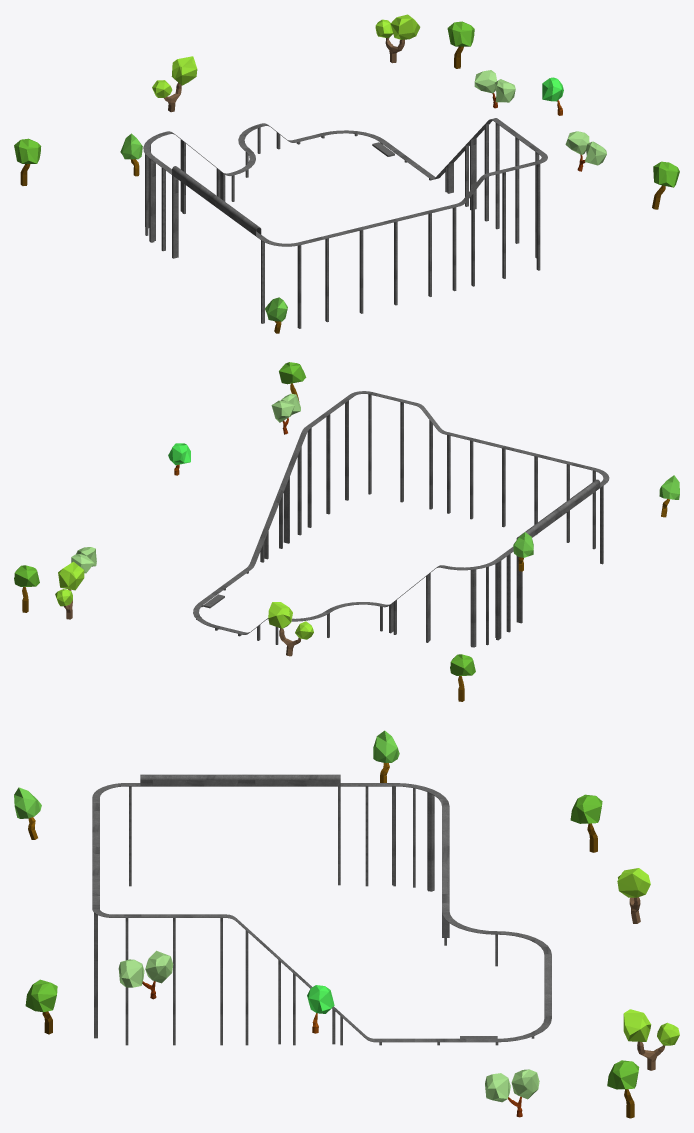
File: Environment.gltf
3 views of the same model, one above another, from view 1: azimuth 30°, elevation 25°; view 2: azimuth 150°, elevation 25°; view 3: azimuth 270°, elevation 25° (orthographic). The views are drawn at different scales.
Parts seen in each view (by area): view 1: terrain001, GeoSphere002 (×2), GeoSphere010, GeoSphere008, GeoSphere005; view 2: terrain001, GeoSphere002, GeoSphere008; view 3: terrain001, GeoSphere002 (×3), GeoSphere001 (×3), GeoSphere005, GeoSphere008, GeoSphere010, GeoSphere006, GeoSphere004, GeoSphere007.
Part boxes in pixels (bbox=[...]): terrain001: bbox=[143, 118, 547, 328]; GeoSphere002 (×2): bbox=[14, 14, 420, 163]; GeoSphere010: bbox=[447, 21, 474, 46]; GeoSphere008: bbox=[171, 56, 197, 85]; GeoSphere005: bbox=[653, 161, 679, 187]; terrain001: bbox=[193, 391, 609, 647]; GeoSphere002: bbox=[58, 561, 84, 590]; GeoSphere008: bbox=[268, 602, 292, 628]; terrain001: bbox=[92, 774, 551, 1045]; GeoSphere002 (×3): bbox=[485, 794, 651, 1102]; GeoSphere001 (×3): bbox=[307, 730, 539, 1099]; GeoSphere005: bbox=[25, 979, 57, 1012]; GeoSphere008: bbox=[617, 868, 650, 897]; GeoSphere010: bbox=[607, 1060, 639, 1089]; GeoSphere006: bbox=[145, 950, 173, 983]; GeoSphere004: bbox=[14, 787, 41, 818]; GeoSphere007: bbox=[118, 959, 144, 987].
Bounding box in the file's own units: 18956 × 4521 × 19390.
Materials: 11 (1 with a texture image).
